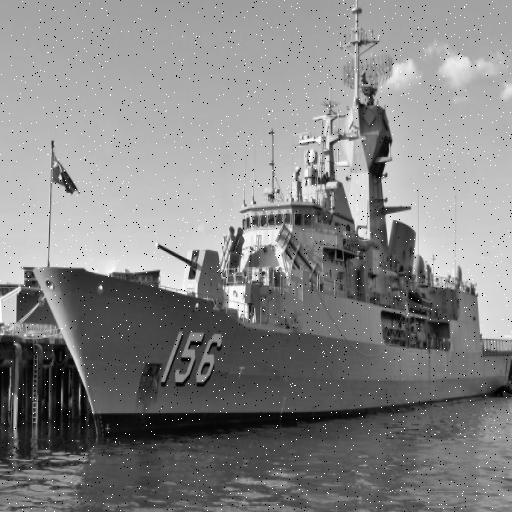Fragata: (28, 1, 512, 454)
